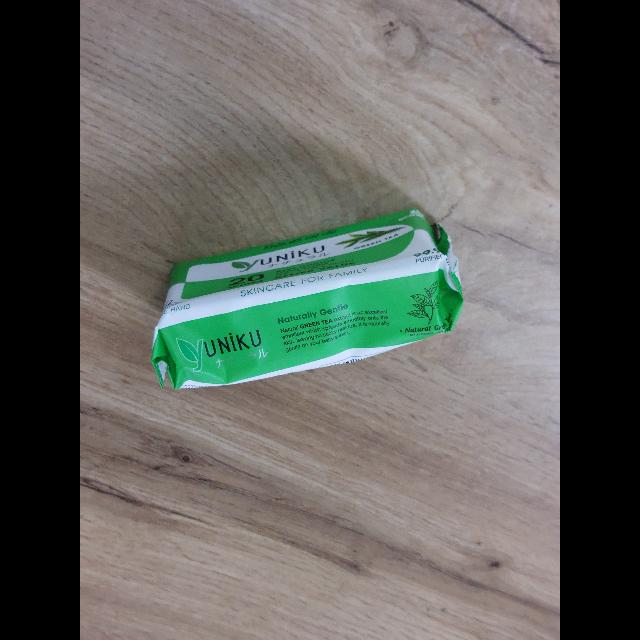khan_giay: (151, 205, 464, 389)
